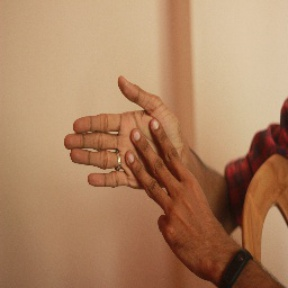M: (68, 73, 183, 215)
